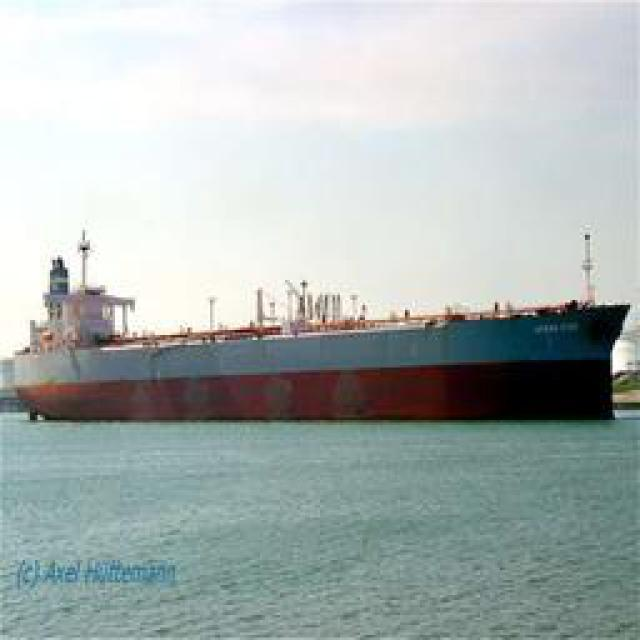Ship: (3, 265, 631, 425)
